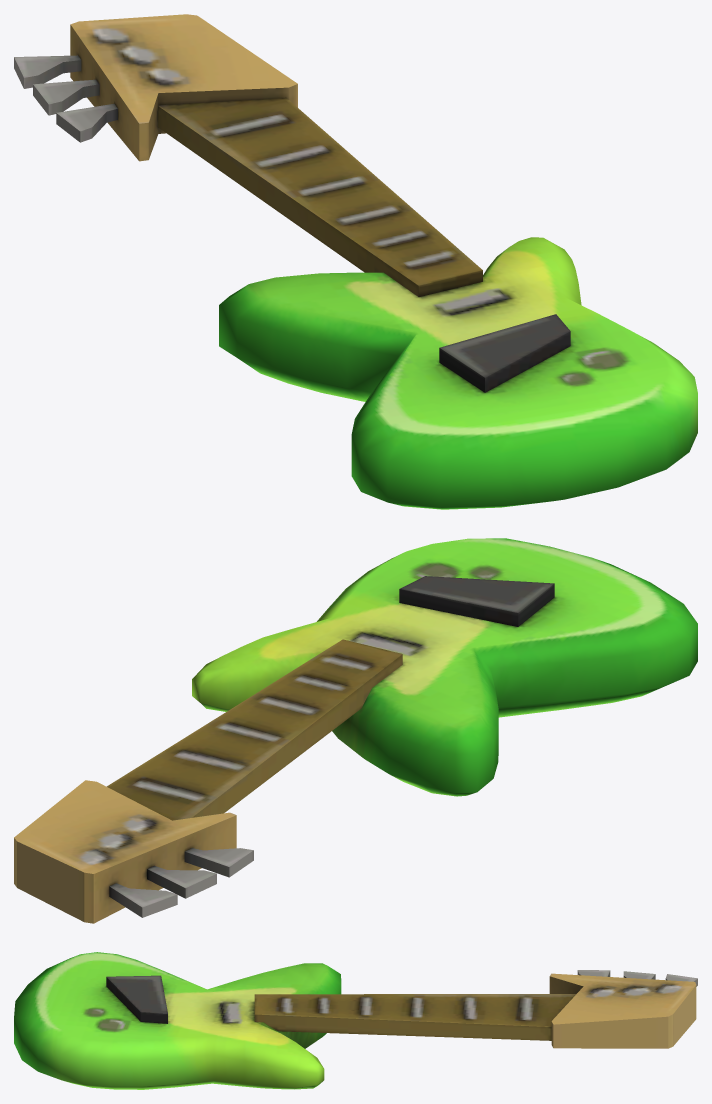
File: InteractiveElectricGuitar.fbx
3 renders of one model, top to bottom at view 1: azimuth 30°, elevation 25°; view 2: azimuth 150°, elevation 25°; view 3: azimuth 270°, elevation 25°, orthographic. The views are drawn at different scales.
Visible parts, largest first — view 1: InteractiveElectricGuitar; view 2: InteractiveElectricGuitar; view 3: InteractiveElectricGuitar.
Part boxes in pixels (left/top/right/bottom): InteractiveElectricGuitar: left=14, top=14, right=697, bottom=509; InteractiveElectricGuitar: left=14, top=538, right=697, bottom=923; InteractiveElectricGuitar: left=14, top=952, right=697, bottom=1089.
Size of the model in its own units: 30.4 by 8.4 by 76.99.
